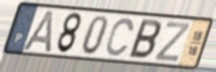0: (81, 14, 108, 56)
8: (55, 12, 83, 55)
A: (19, 8, 56, 55)
B: (126, 17, 163, 61)
C: (104, 17, 136, 58)
Z: (152, 21, 192, 64)
